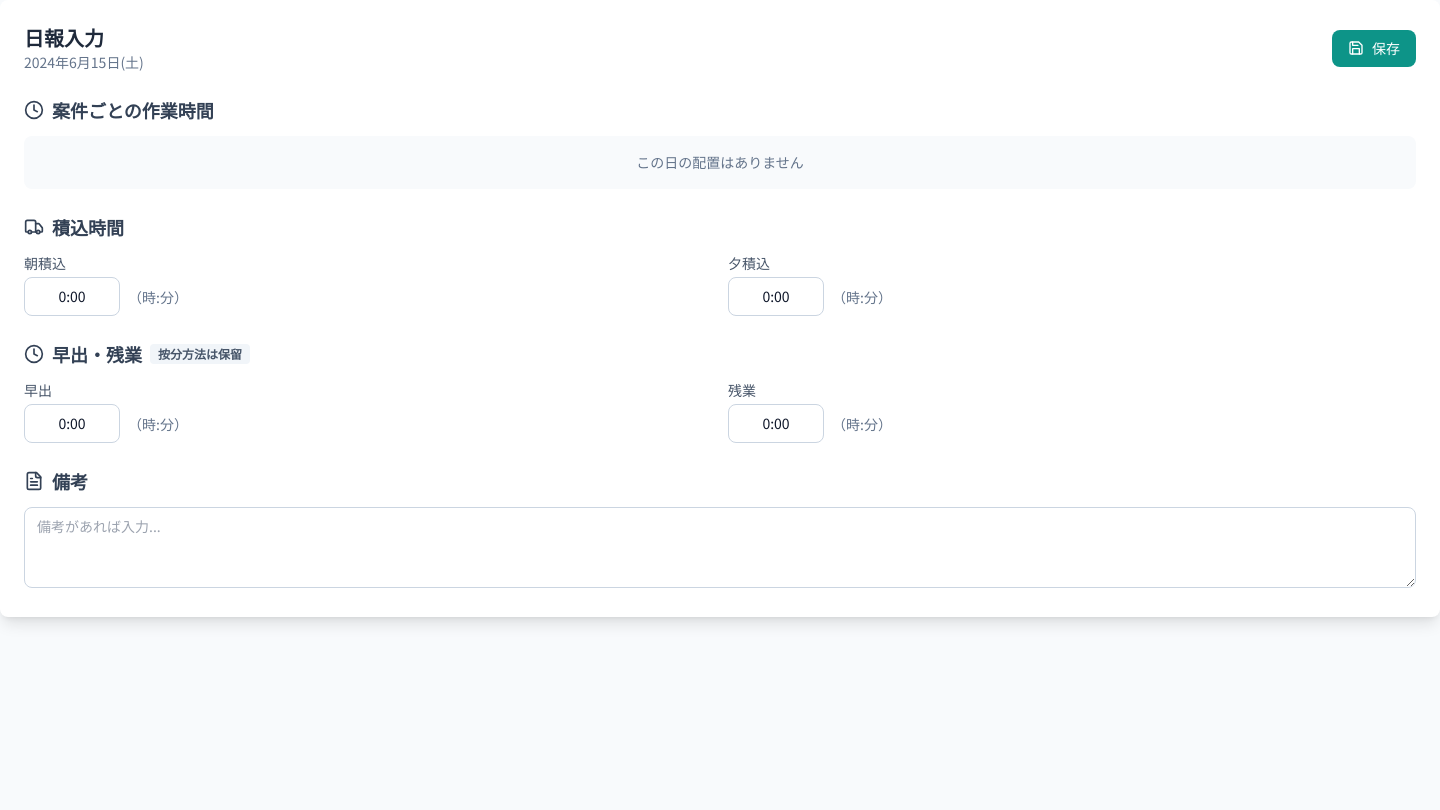
Test: DailyReportForm › should show error message on save failure
Click the button "保存" at [1374, 48], box [1332, 30, 1416, 66]
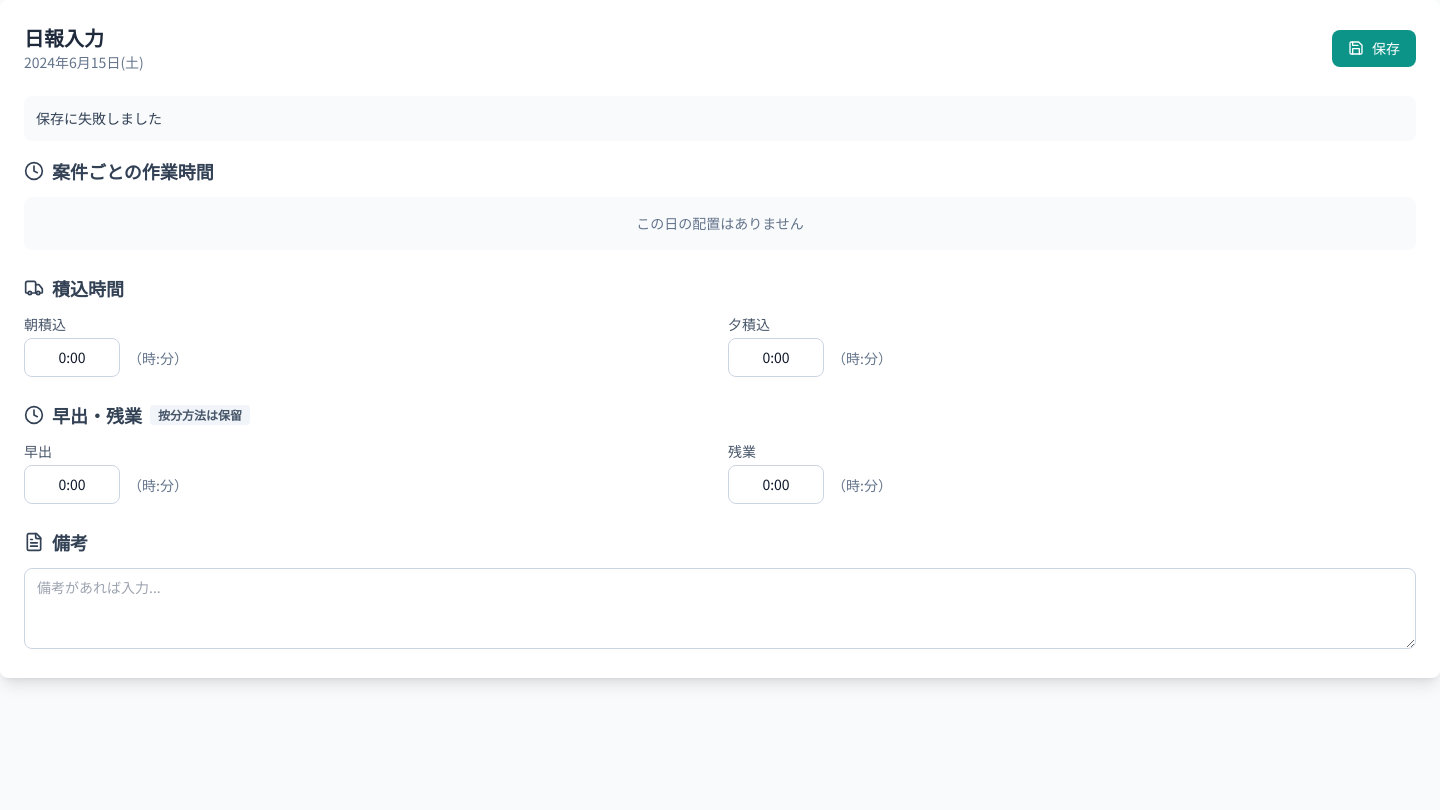
Now the text "保存に失敗しました" is shown, box [24, 96, 1416, 141]
